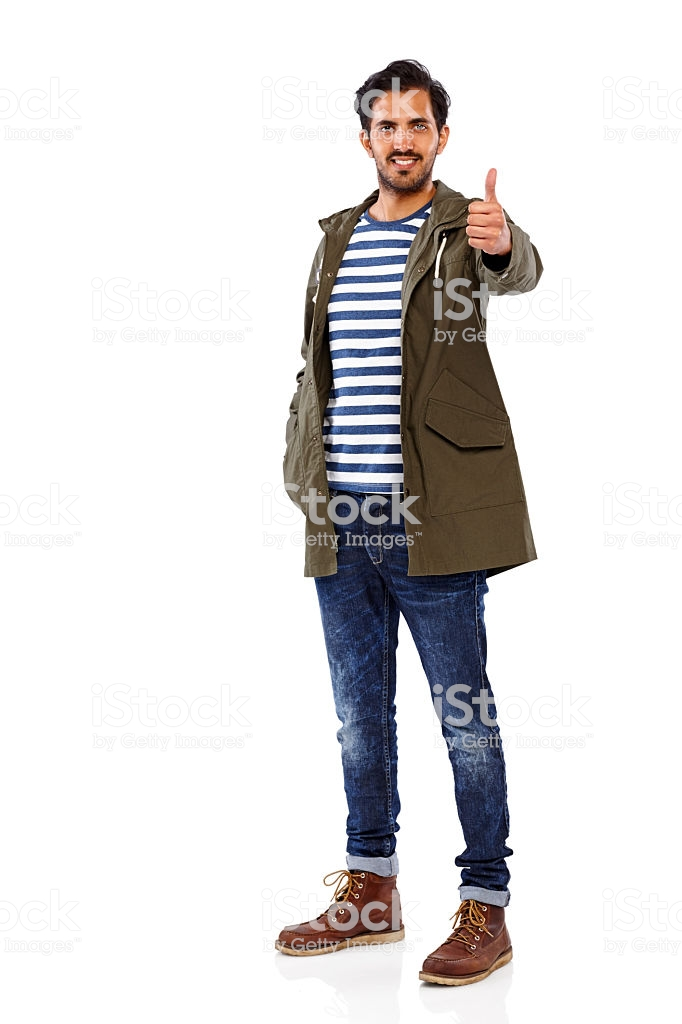thumbsup: (464, 166, 510, 255)
